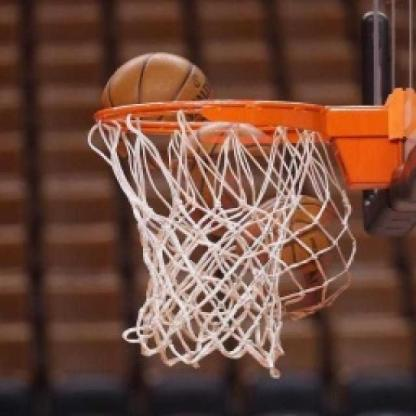basketball: (96, 47, 217, 170), (244, 191, 350, 322), (174, 118, 284, 235)
